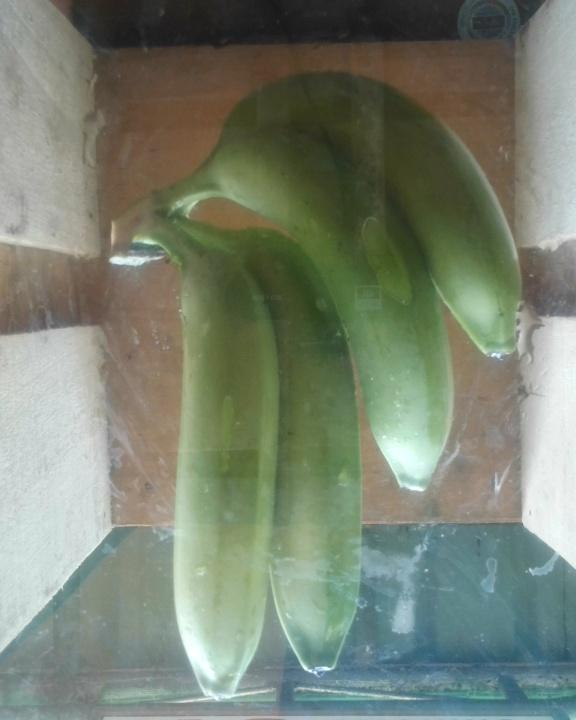SPOT: (102, 59, 532, 702)
